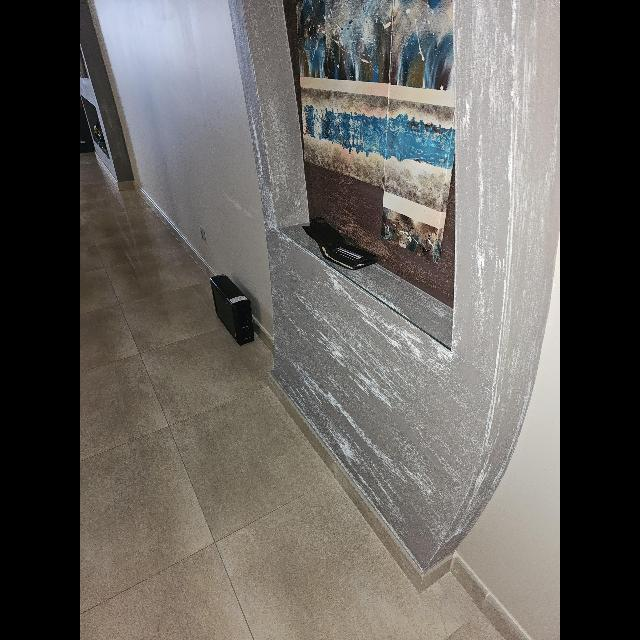Wallet: (303, 216, 379, 270)
